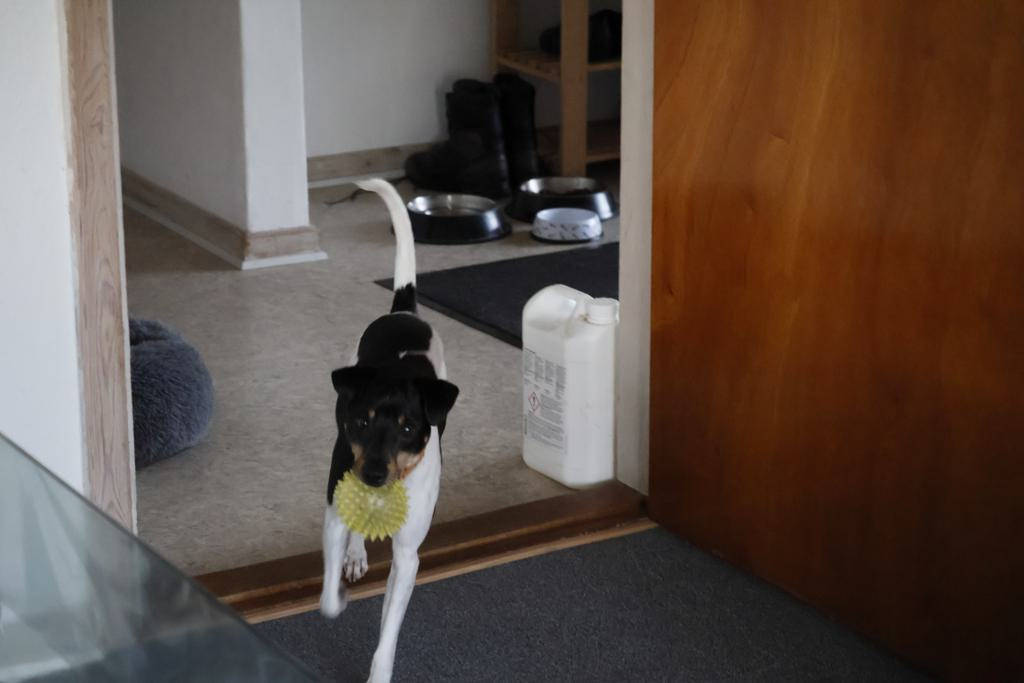Dog: (298, 160, 475, 683)
